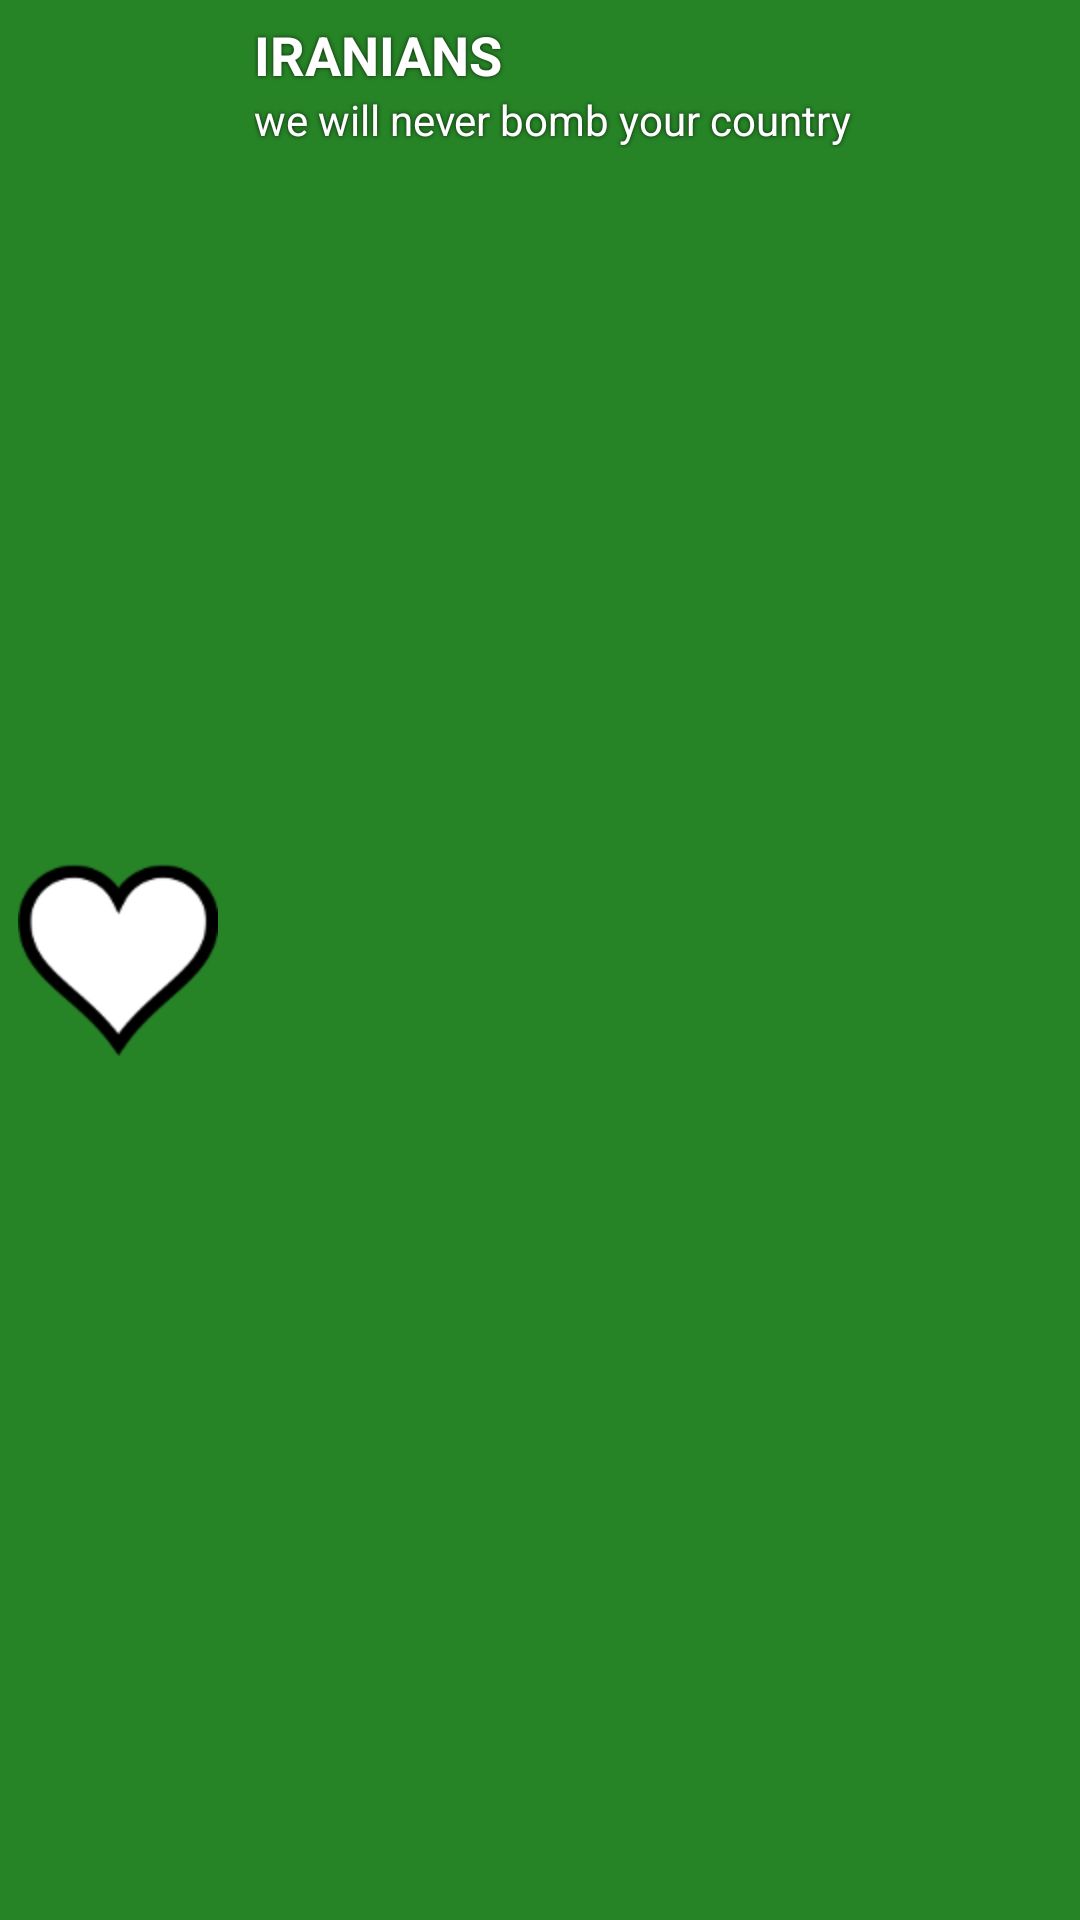

Where to tap for icons on this 1080px×1920px app screen, as (x=x, y=y):
heart: (x=118, y=960)
